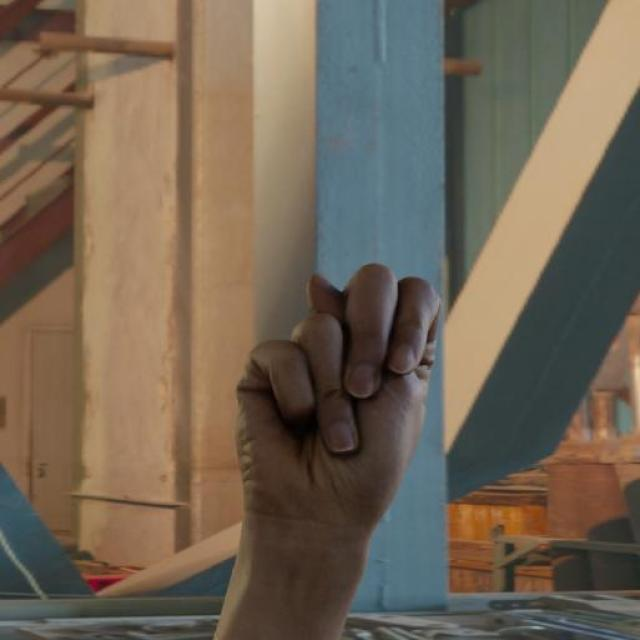N: (232, 260, 442, 526)
